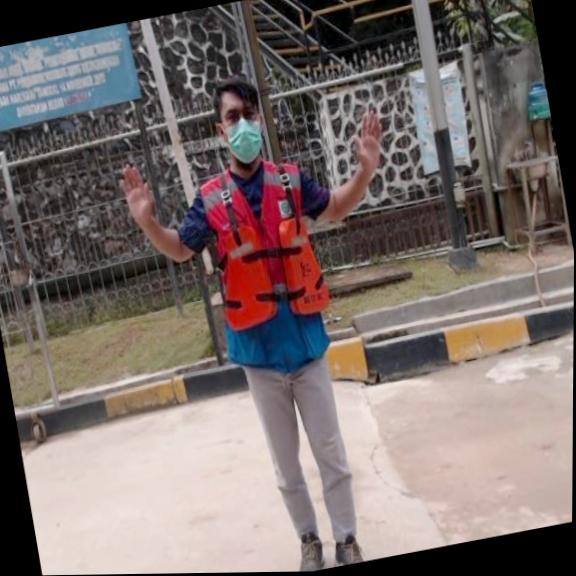safety_vest: (208, 208, 336, 338)
